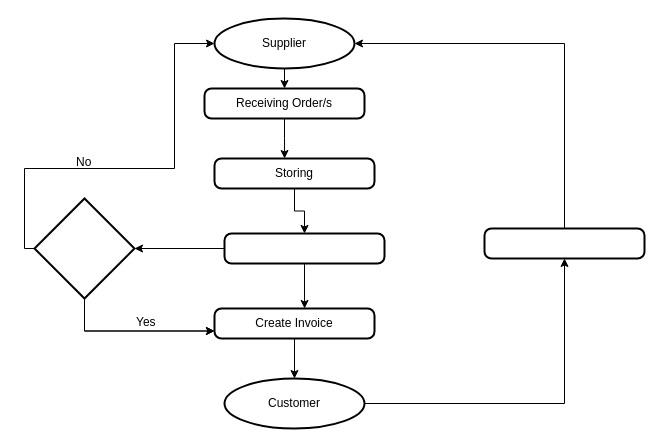
The diagram is 663 pixels wide and 446 high, and some of its shapes have lost their labels. The shapes that lost their labels are listed below. From the top down, each one's box as (x1, y1, x2, y2) in pixels, then its label:
(33, 197, 135, 299): Stock Available
(223, 232, 385, 264): Stock Taking
(483, 227, 645, 259): Payment
